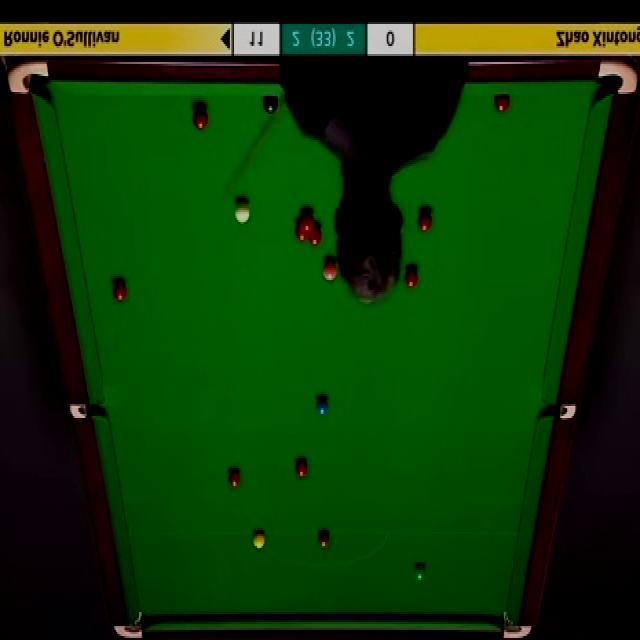black-ball: (262, 94, 280, 115)
blue-ball: (315, 396, 330, 416)
brown-ball: (318, 532, 330, 552)
green-ball: (412, 562, 426, 584)
pink-ball: (322, 256, 339, 281)
red-ball: (191, 105, 210, 131), (404, 265, 420, 291), (112, 275, 127, 302), (417, 205, 431, 232), (293, 457, 309, 480), (294, 218, 308, 242), (494, 95, 510, 115), (309, 222, 322, 246), (300, 210, 316, 229), (227, 466, 240, 489)
white-ball: (233, 202, 252, 225)
yellow-ball: (252, 531, 266, 549)
